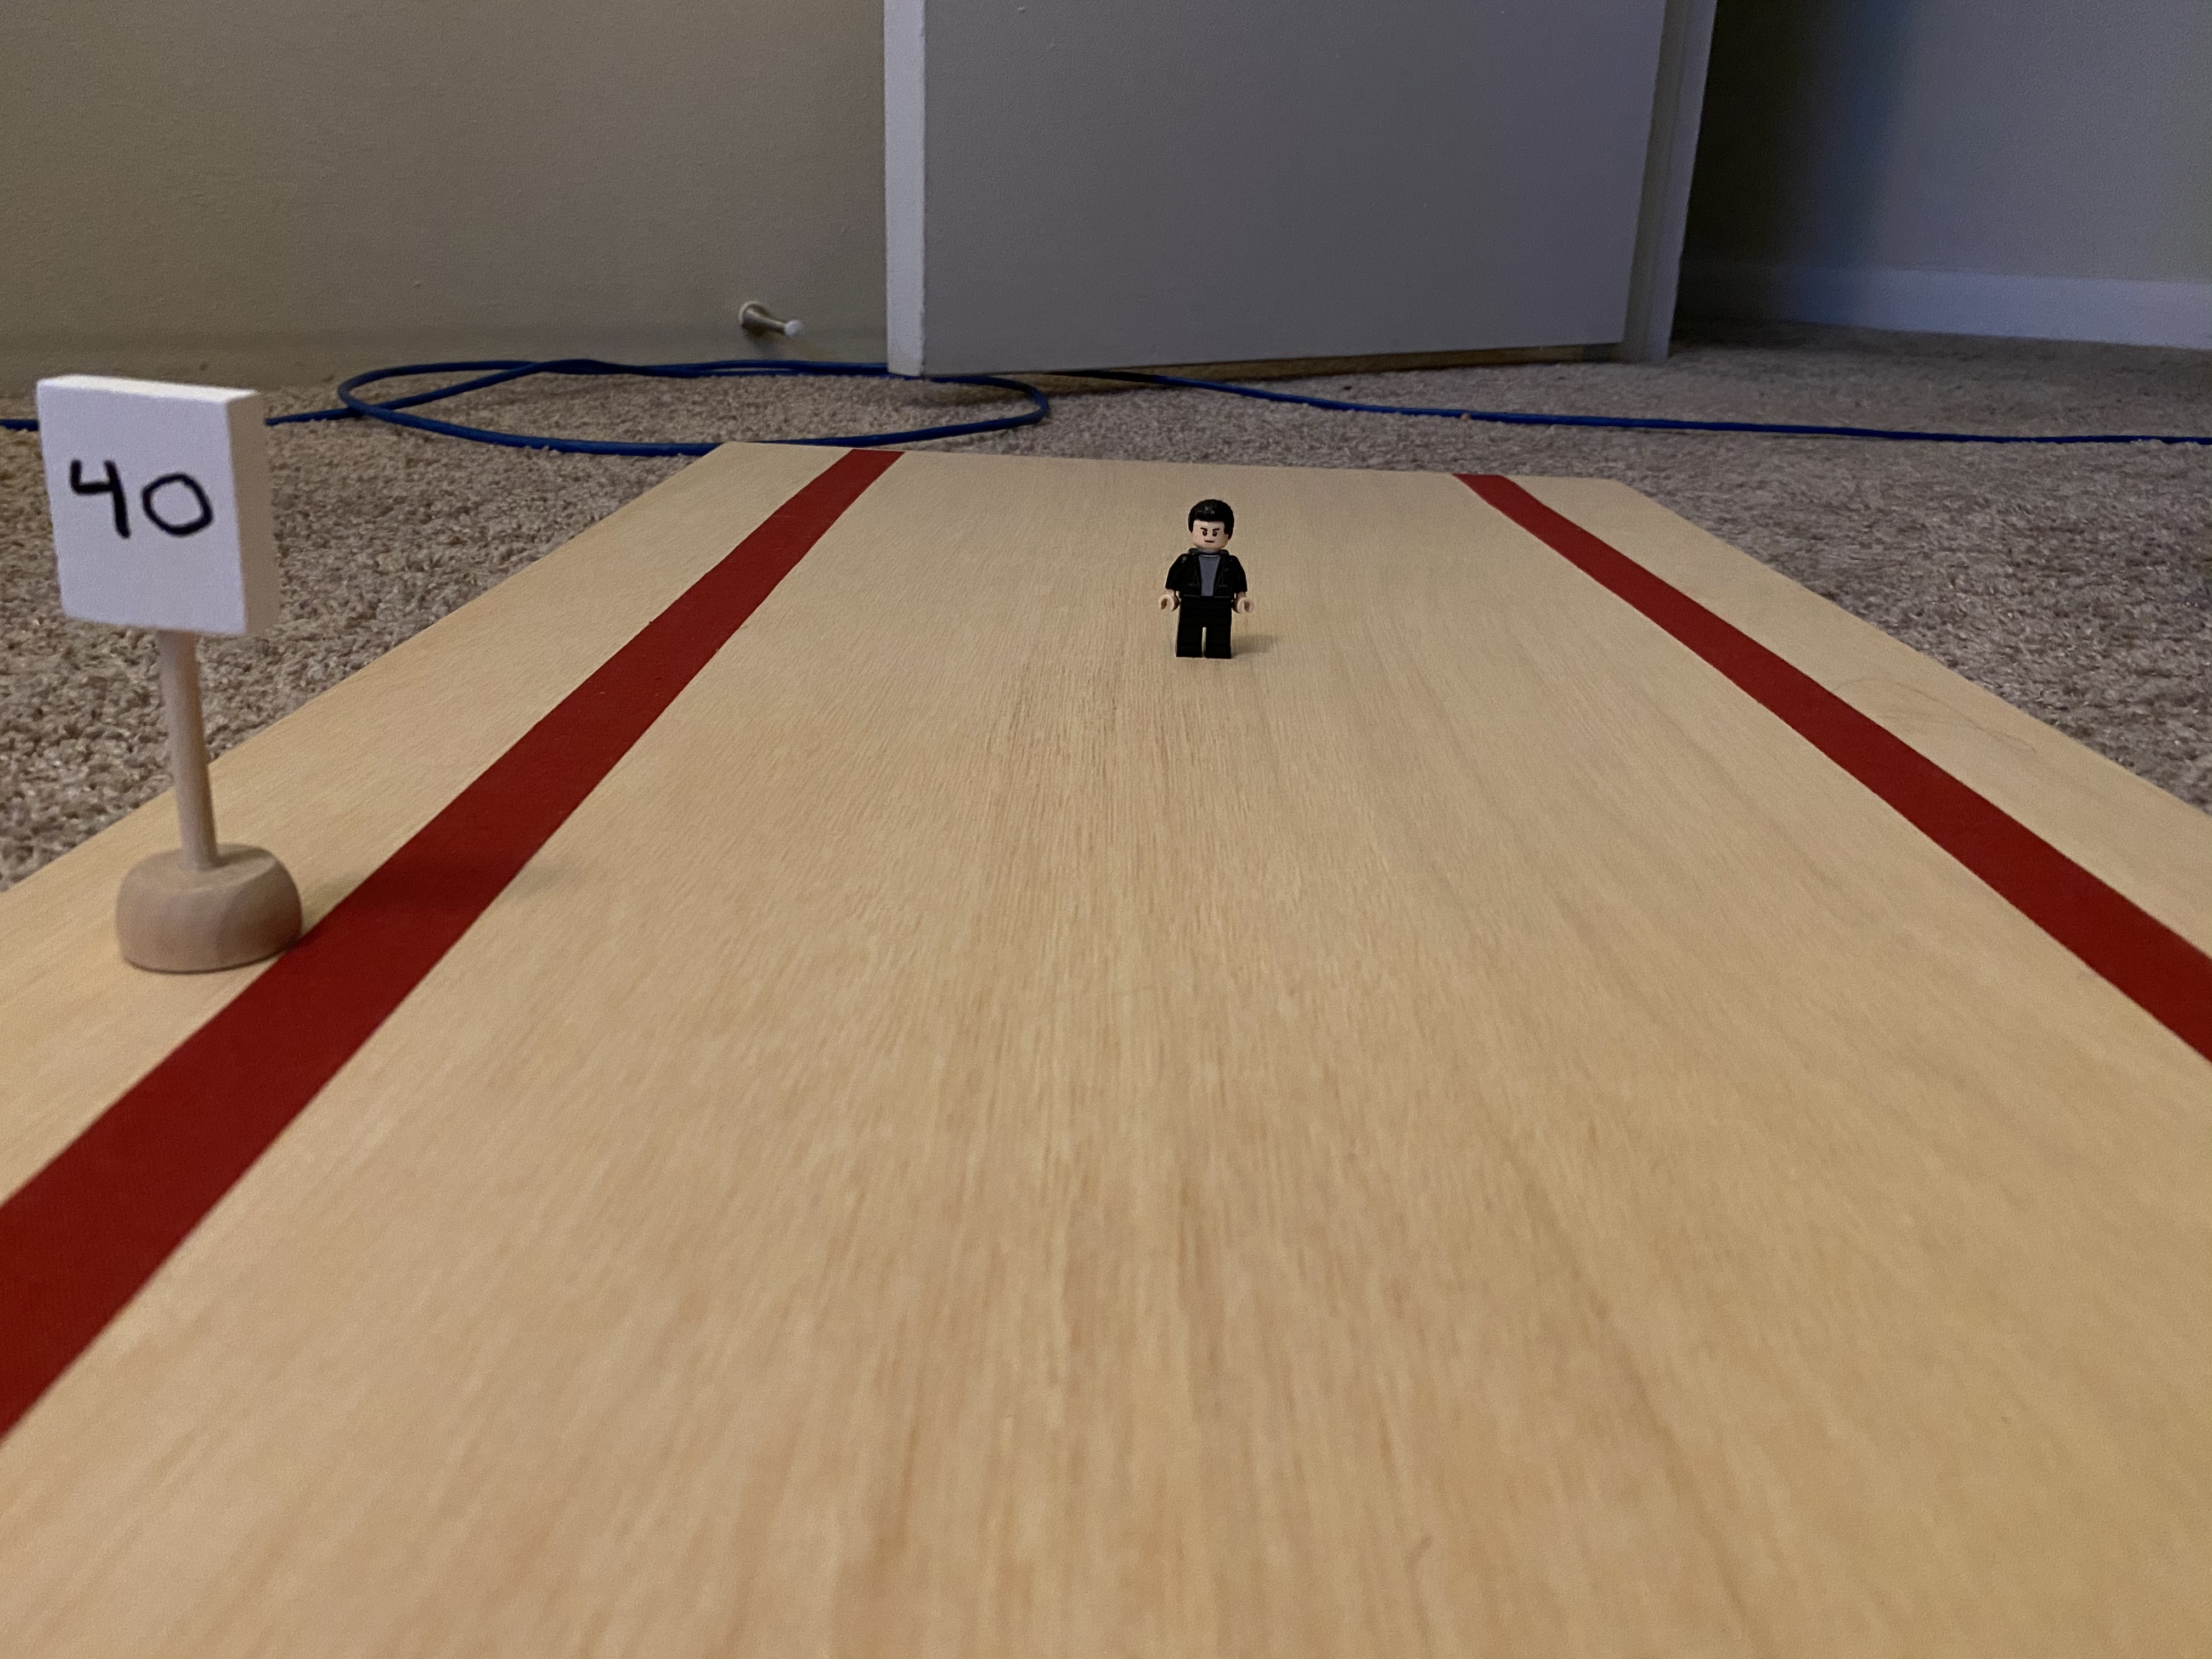Person: (1143, 482, 1271, 674)
Speed Limit 40: (22, 363, 310, 656)
